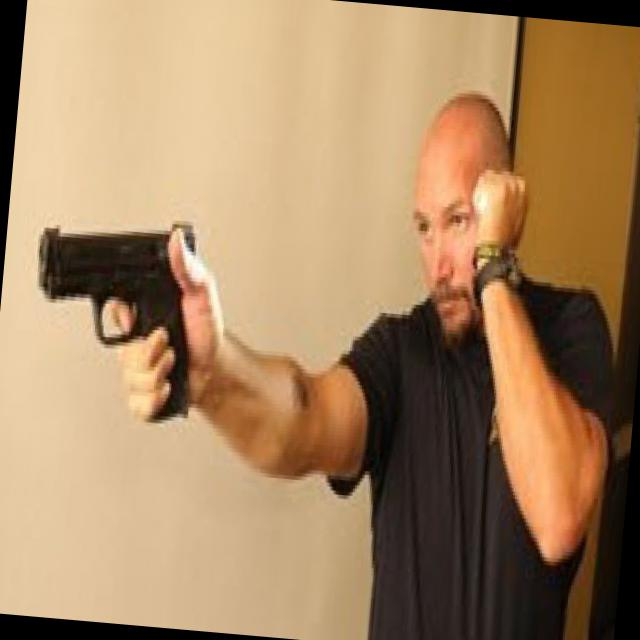handgun: (8, 189, 216, 441)
